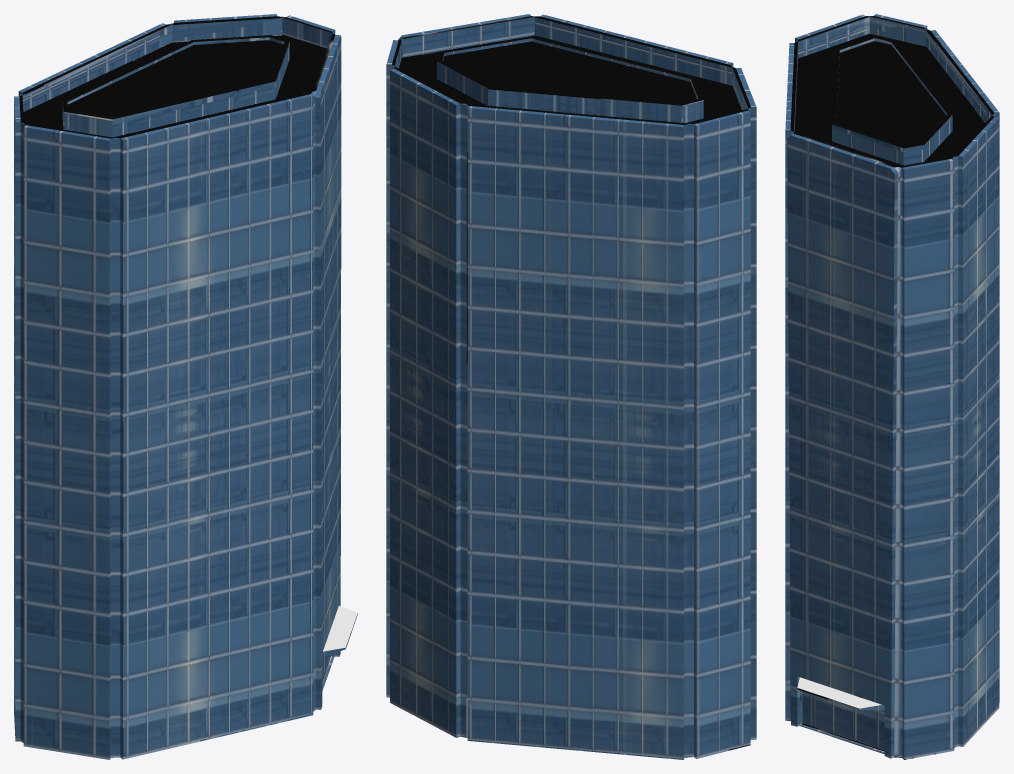
File: 125 Old Broad St (Tex).glb
3 views of the same model, side by side, from view 1: azimuth 30°, elevation 25°; view 2: azimuth 150°, elevation 25°; view 3: azimuth 270°, elevation 25° (orthographic). The views are drawn at different scales.
Visible parts, largest first — view 1: Circle; view 2: Circle; view 3: Circle.
Boxes of the visible parts, left/top/right/bottom form: Circle: left=14, top=14, right=357, bottom=759; Circle: left=386, top=14, right=756, bottom=759; Circle: left=785, top=14, right=999, bottom=759.
Size of the model in its own units: 58.46 by 103 by 33.87.
1 material, 1 textured.
